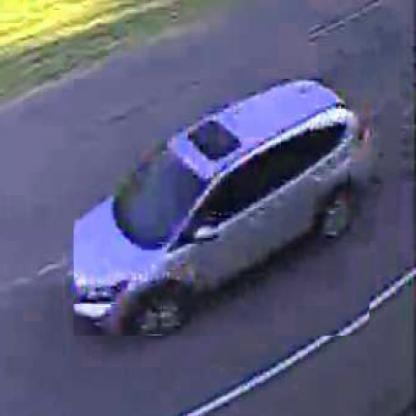car: (74, 80, 371, 338)
